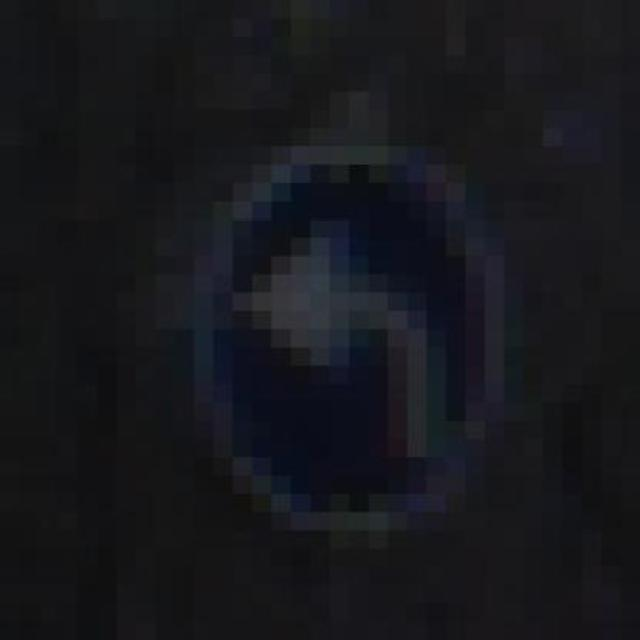Turn left ahead: (135, 128, 543, 530)
